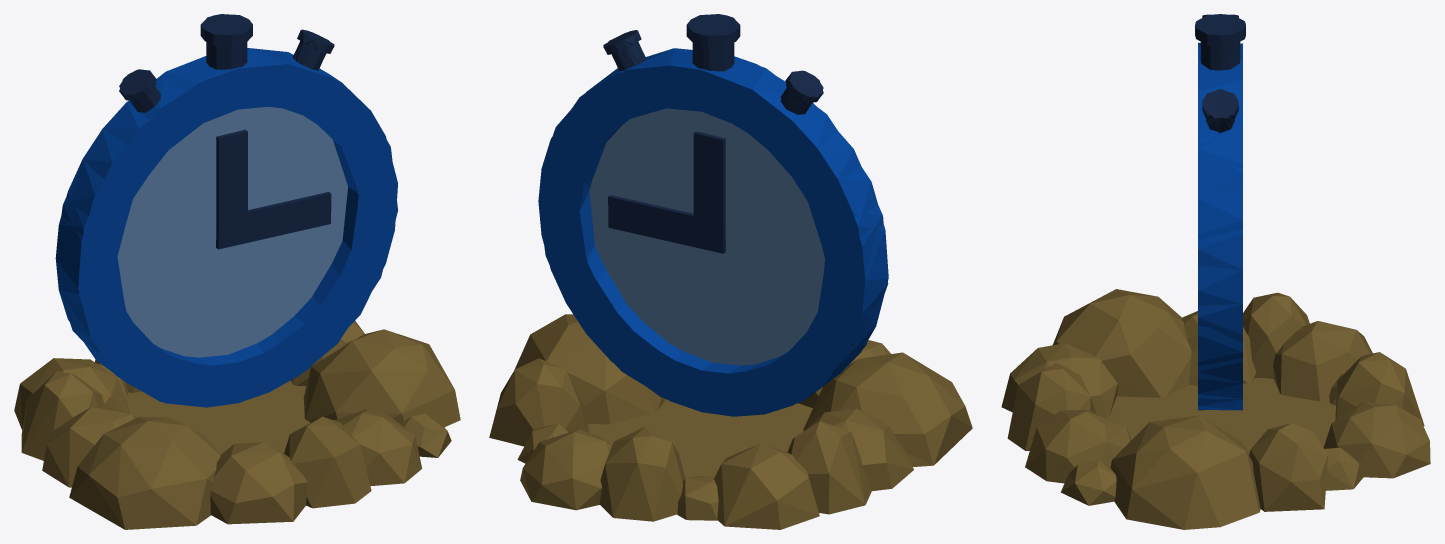
File: reloj.fbx
The picture shows the model from 3 angles, left to right: view 1: azimuth 30°, elevation 25°; view 2: azimuth 150°, elevation 25°; view 3: azimuth 270°, elevation 25°; orthographic projection. The views are drawn at different scales.
Visible parts, largest first — view 1: Reloj, Hueco_Reloj; view 2: Reloj, Hueco_Reloj; view 3: Hueco_Reloj, Reloj.
Boxes of the visible parts, x1=… form: Reloj: x1=55, y1=14, x2=397, y2=407; Hueco_Reloj: x1=14, y1=321, x2=460, y2=529; Reloj: x1=538, y1=14, x2=888, y2=416; Hueco_Reloj: x1=489, y1=314, x2=972, y2=529; Hueco_Reloj: x1=1001, y1=289, x2=1430, y2=529; Reloj: x1=1195, y1=14, x2=1245, y2=410.
Bounding box in the file's own units: 282 × 277 × 267.
